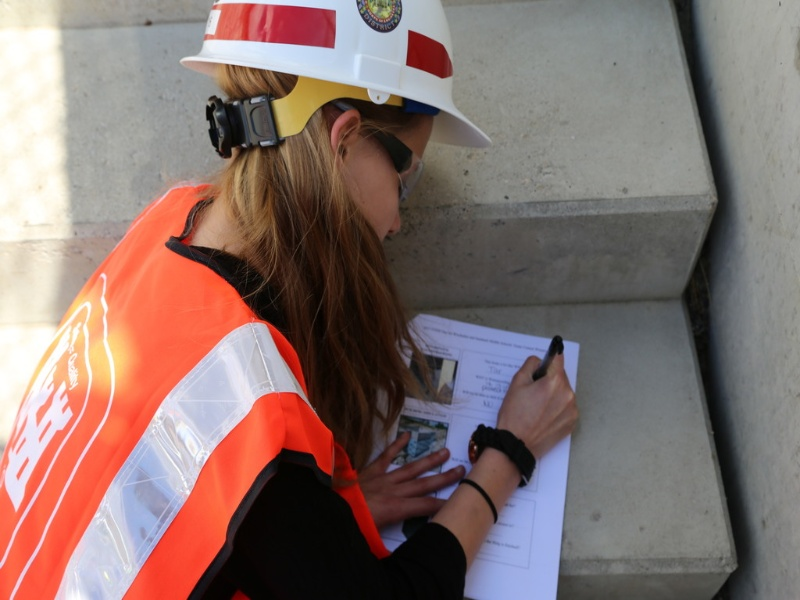Baret: (177, 1, 493, 154)
